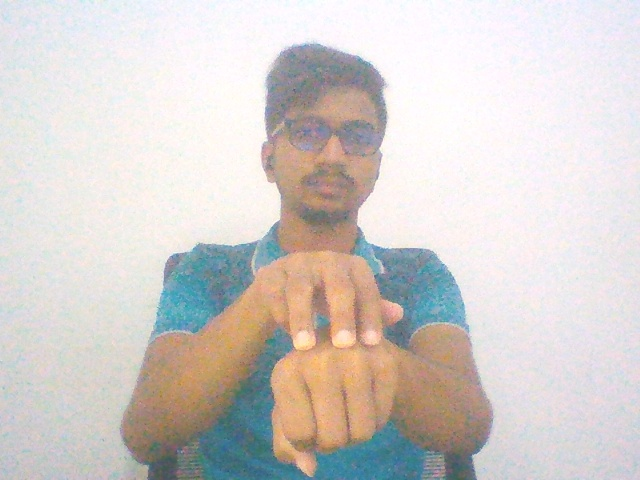papaya: (245, 225, 414, 478)
